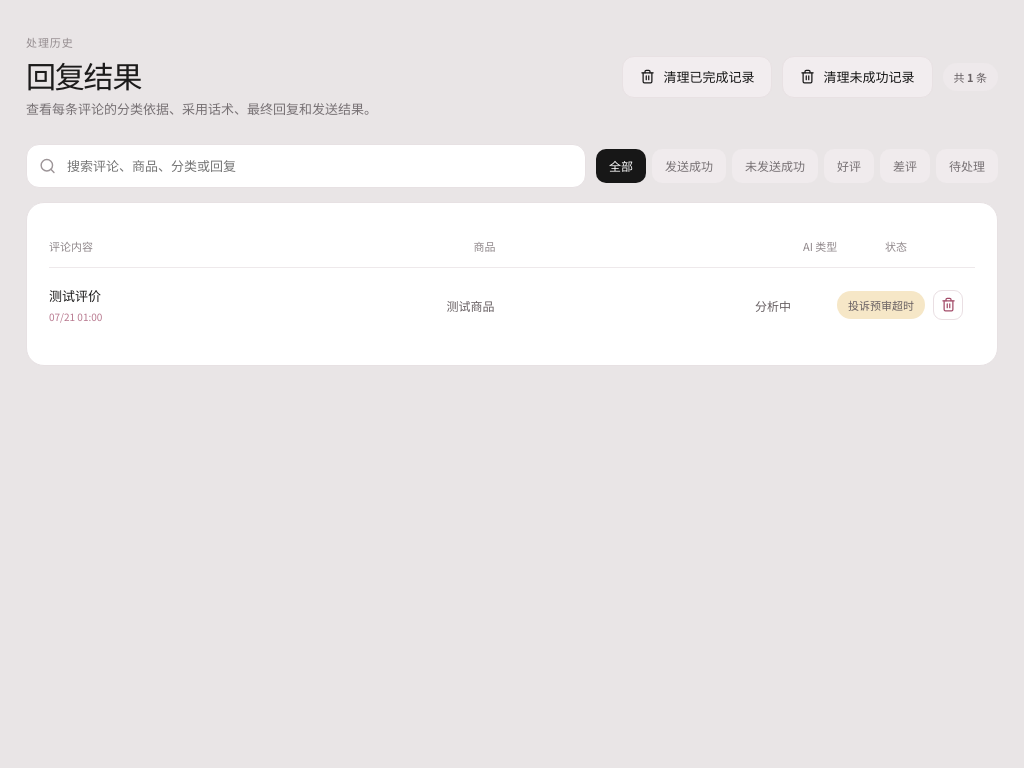
it: 回复结果数据闭环 › shows complaint failure kind timeout instead of the generic retry status
Check: the text "投诉预审超时" is shown, box [837, 291, 925, 319]
Click the button with aria-label "查看评论详情：测试评价" at (75, 296), box [49, 267, 975, 343]
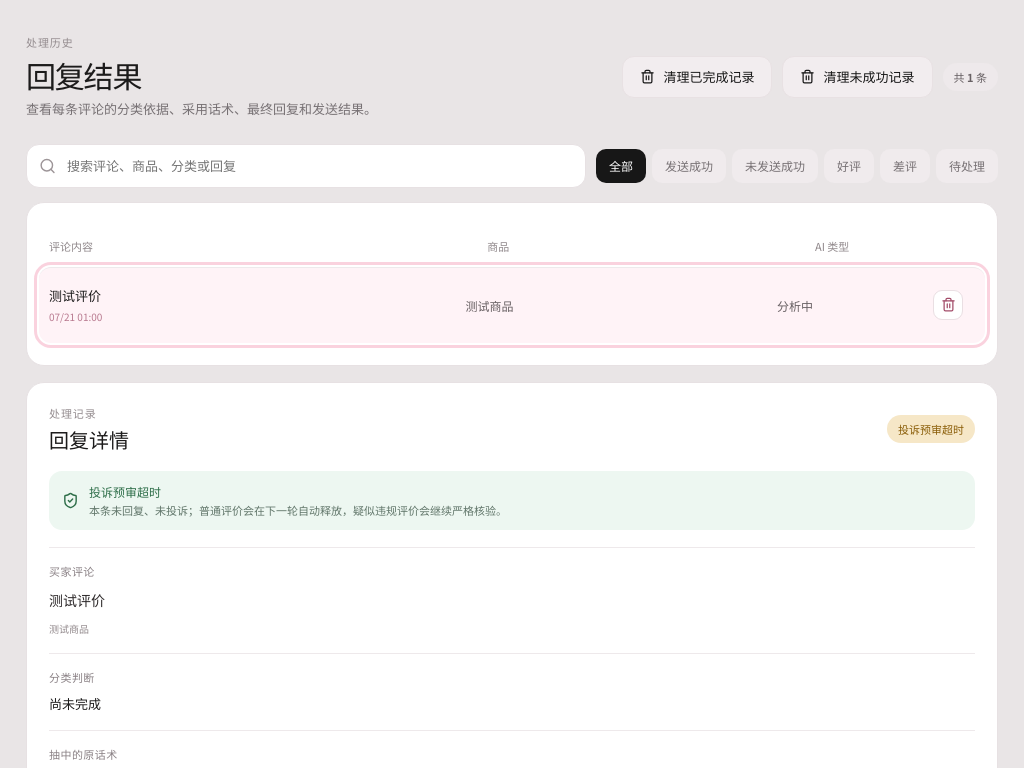
Check: the text "本条未回复、未投诉；普通评价会在下一轮自动释放，疑似违规评价会继续严格核验。" is shown, box [89, 502, 507, 518]
